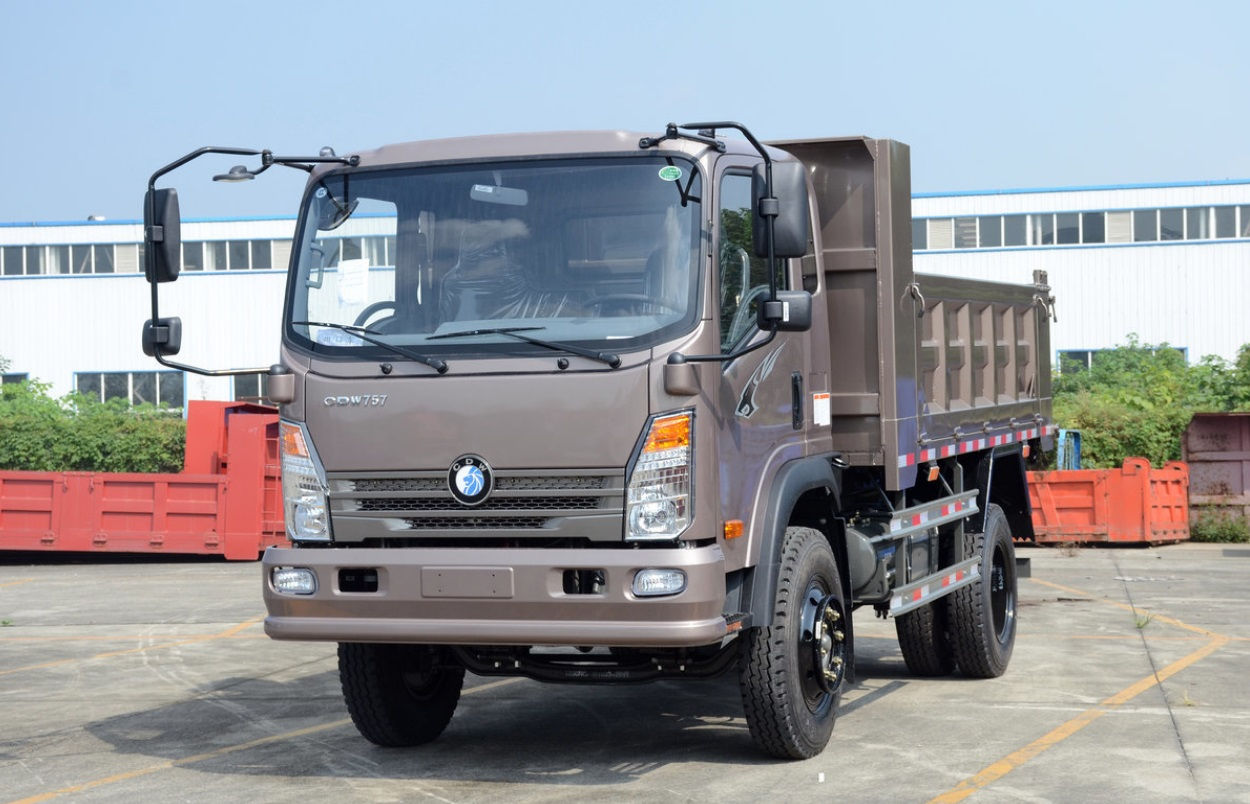truck: (128, 114, 1059, 764)
